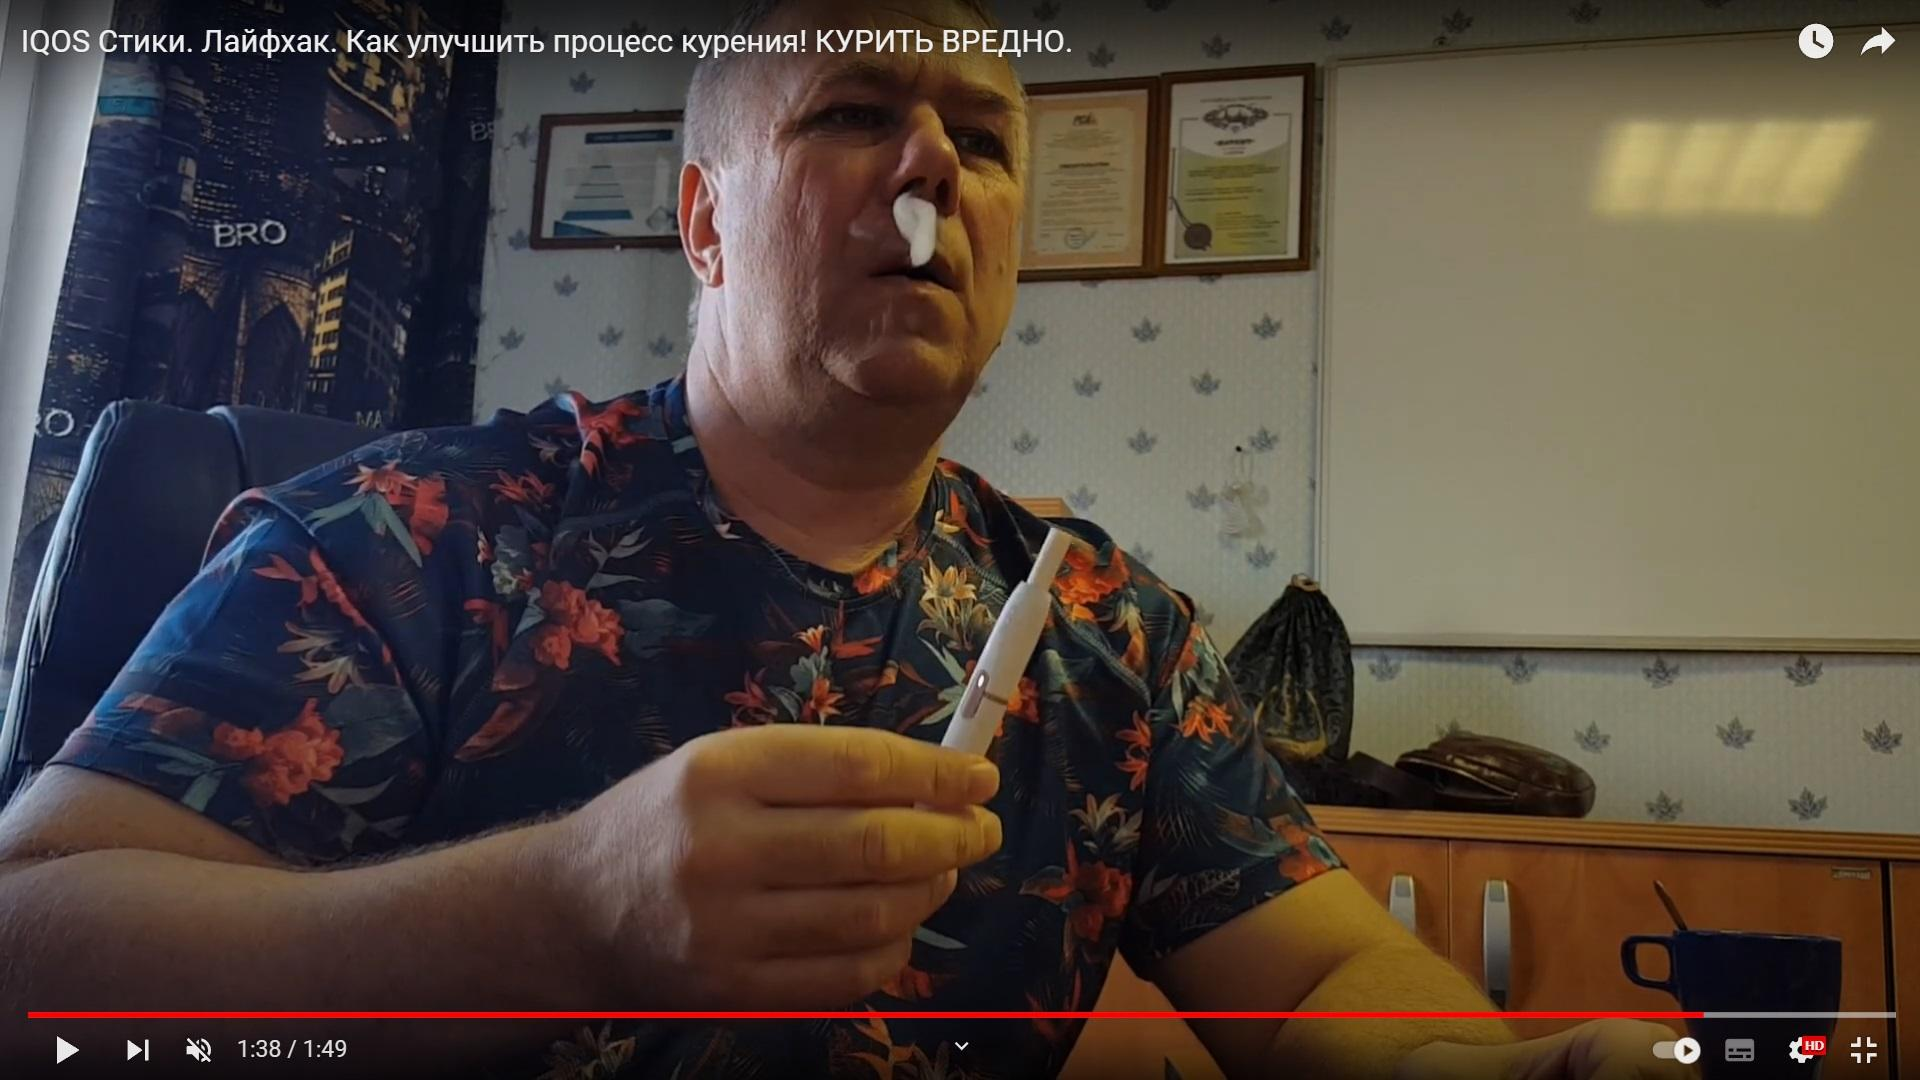iqos: (940, 525, 1077, 754)
